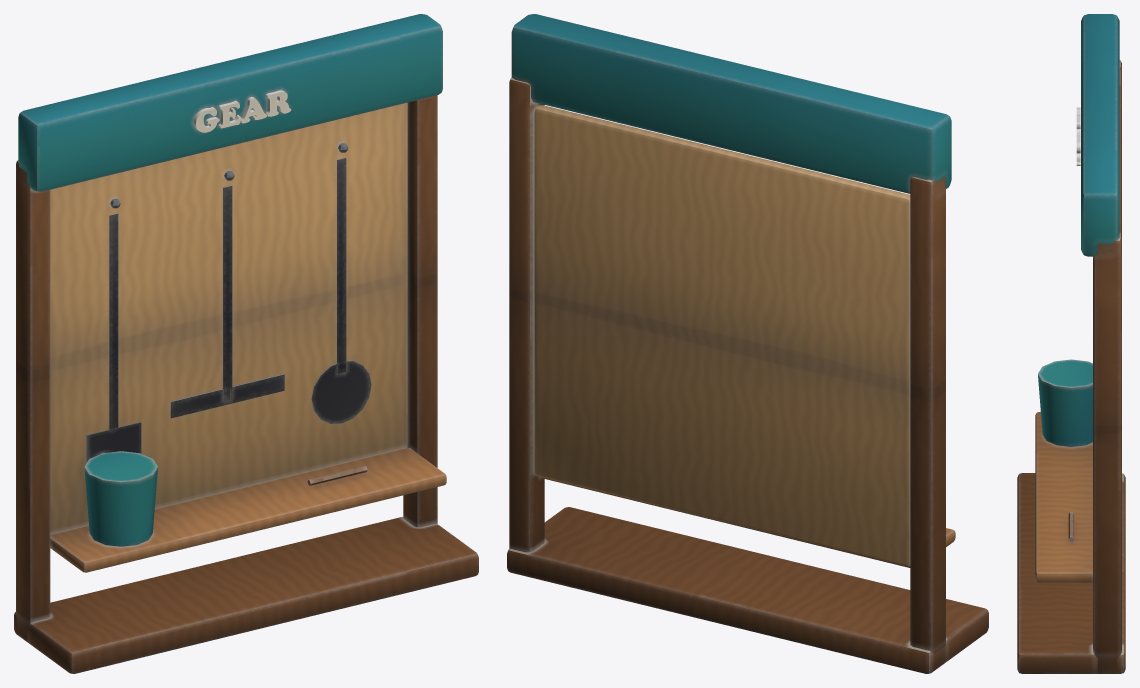
File: tool_station.glb
3 views of the same model, side by side, from view 1: azimuth 30°, elevation 25°; view 2: azimuth 150°, elevation 25°; view 3: azimuth 270°, elevation 25° (orthographic). The views are drawn at different scales.
Parts seen in each view (by area): view 1: SM_ToolStation; view 2: SM_ToolStation; view 3: SM_ToolStation.
Part boxes in pixels (<box>): SM_ToolStation: <box>14,14,478,673</box>; SM_ToolStation: <box>507,14,988,673</box>; SM_ToolStation: <box>1017,14,1125,673</box>.
Size of what is drawn, in the model's own units: 1.8 by 2.21 by 0.45.
1 material, 1 textured.
